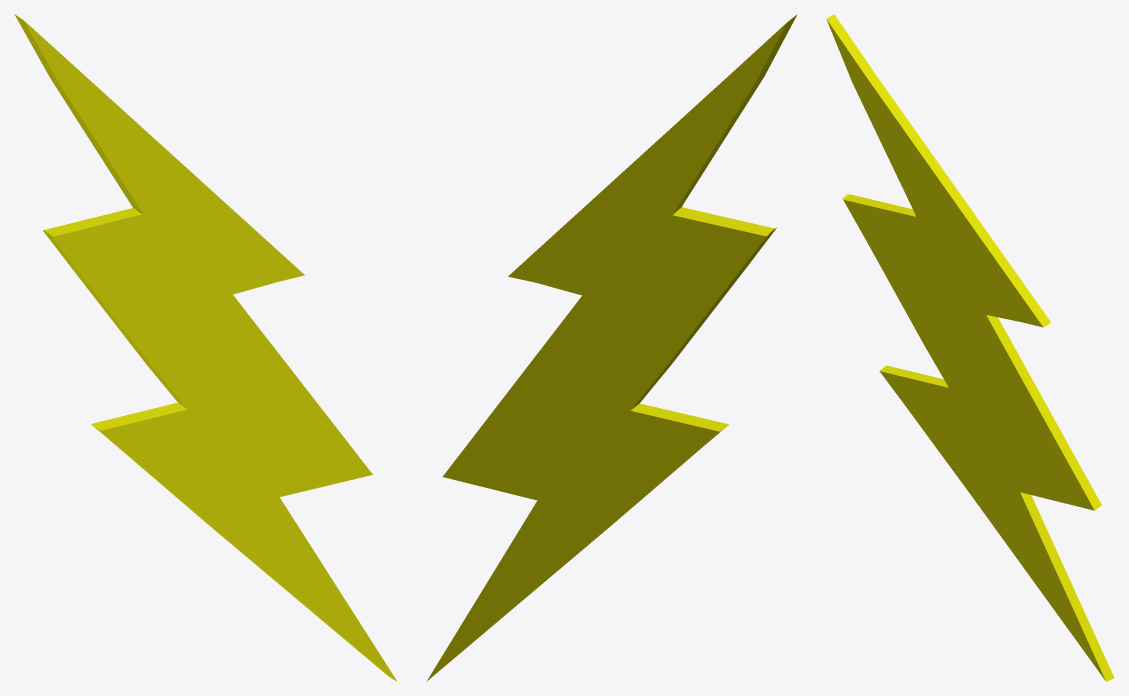
Rendered from speed.fbx.
3 renders of one model, left to right at view 1: azimuth 30°, elevation 25°; view 2: azimuth 150°, elevation 25°; view 3: azimuth 330°, elevation 25°, orthographic. The views are drawn at different scales.
Visible parts, largest first — view 1: pasted__polySurface1306; view 2: pasted__polySurface1306; view 3: pasted__polySurface1306.
Part boxes in pixels (x1,y1,x2,y2): pasted__polySurface1306: [14, 14, 397, 681]; pasted__polySurface1306: [426, 14, 797, 681]; pasted__polySurface1306: [826, 14, 1114, 681].
Size of the model in its own units: 3.96 by 7.73 by 0.3653.
